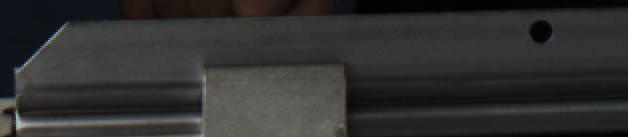cut: (11, 15, 162, 137)
holes: (527, 18, 555, 44)
